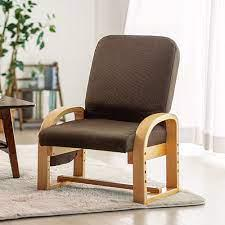chair: (37, 23, 183, 202)
